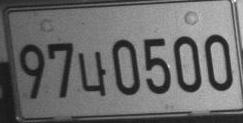0: (203, 33, 233, 91), (111, 38, 141, 95), (172, 35, 202, 92)
5: (143, 37, 171, 95)
7: (47, 42, 73, 97)
9: (18, 43, 45, 99)
나: (77, 51, 106, 96)
